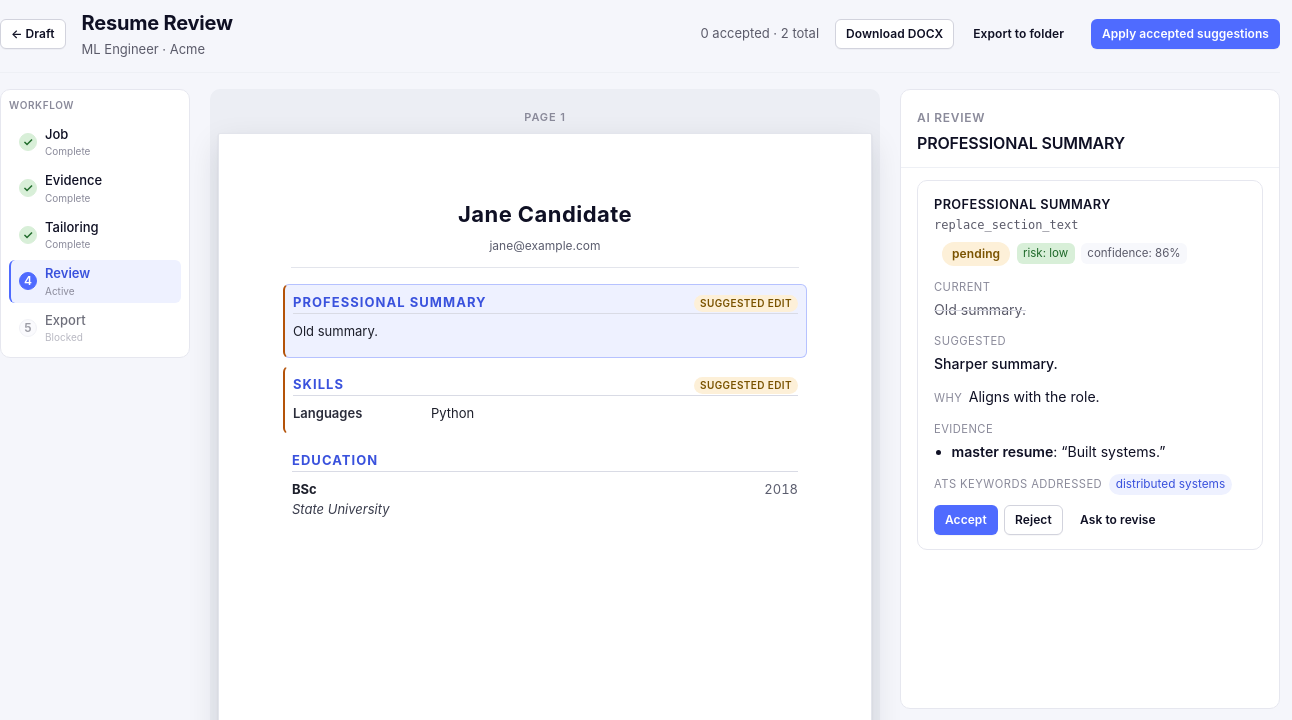
Test case: ResumeReviewPage workspace (task 114) › shows a useful empty state for a section without suggestions
The width and height of the screenshot is (1292, 720).
Click the button with test id "doc-section-education". click: (545, 461)
box: [283,442,807,528]
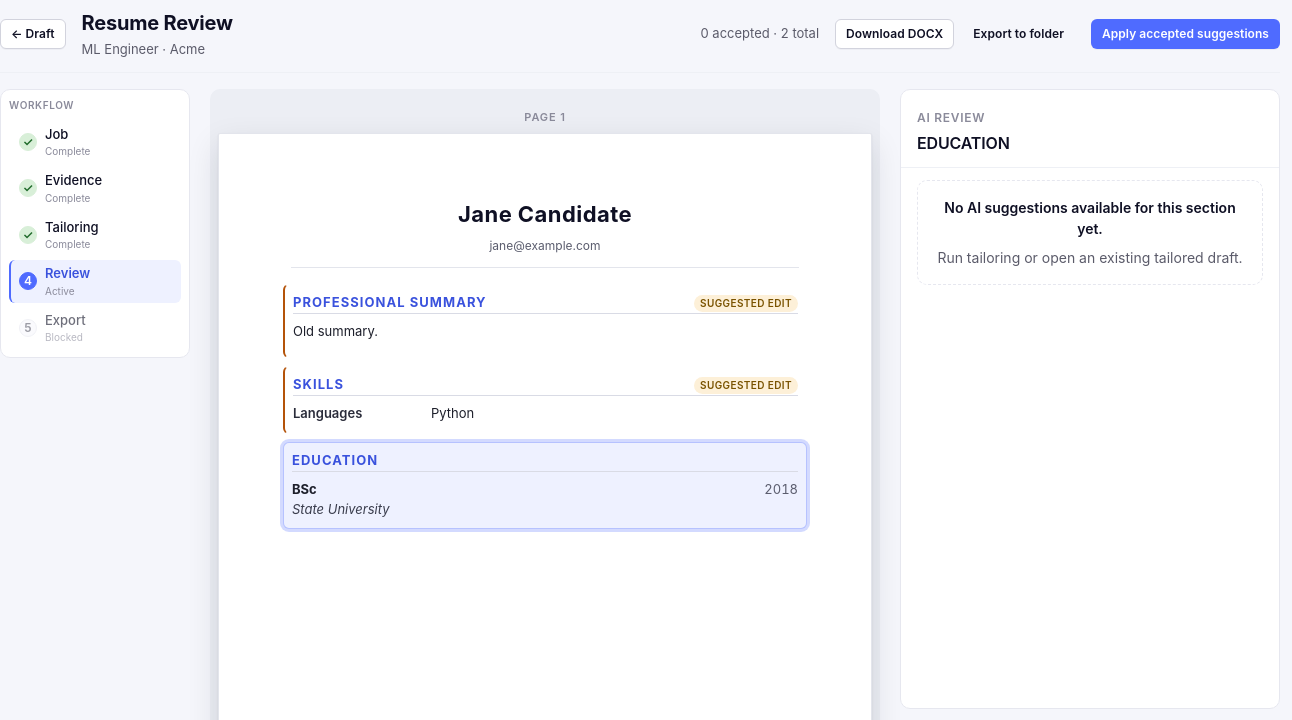
expect the text "No AI suggestions available for this section yet." is shown: met, box [934,196,1246,238]
